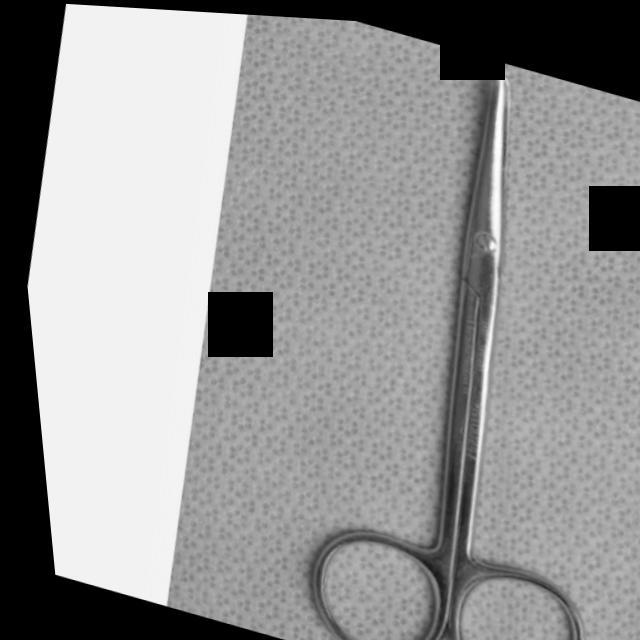Metzenbaum Sciccors: (236, 16, 640, 640)
